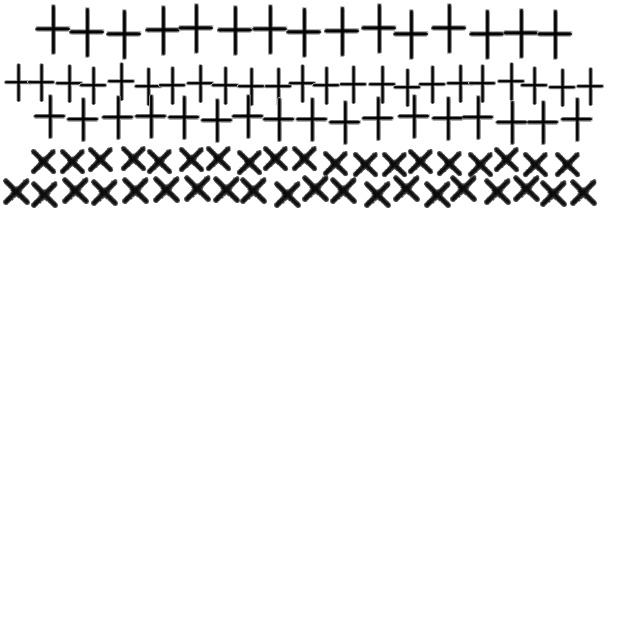double: (32, 4, 72, 56), (66, 7, 106, 59), (103, 9, 143, 61), (142, 5, 182, 57), (175, 3, 215, 55), (214, 5, 254, 57), (249, 4, 289, 56), (283, 7, 323, 59), (321, 6, 361, 58), (358, 3, 398, 55), (390, 9, 430, 61), (428, 3, 468, 55), (466, 9, 506, 61), (500, 8, 540, 60), (534, 9, 574, 61), (31, 94, 67, 140), (64, 97, 100, 143), (99, 95, 135, 141), (132, 94, 168, 140), (165, 95, 201, 141), (198, 98, 234, 144), (229, 94, 265, 140), (260, 97, 296, 143), (293, 97, 329, 143), (326, 100, 362, 146), (359, 96, 395, 142), (395, 94, 431, 140), (429, 96, 465, 142), (459, 95, 495, 141), (493, 100, 529, 146), (524, 100, 560, 146), (558, 97, 594, 143), (2, 63, 34, 103), (132, 67, 164, 107), (156, 66, 188, 106), (184, 64, 216, 104), (262, 67, 294, 107), (286, 64, 318, 104), (310, 66, 342, 106), (366, 65, 398, 105), (416, 65, 448, 105), (444, 64, 476, 104), (466, 64, 498, 104), (518, 66, 550, 106), (546, 68, 578, 108), (574, 67, 606, 107), (28, 176, 62, 212), (88, 174, 122, 210), (390, 170, 424, 206), (510, 170, 544, 206), (26, 63, 56, 103), (54, 64, 84, 104), (78, 66, 108, 106), (106, 62, 136, 102), (210, 66, 240, 106), (236, 67, 266, 107), (338, 65, 368, 105), (392, 68, 422, 108), (496, 62, 526, 102), (0, 174, 34, 208), (150, 172, 184, 206), (210, 172, 244, 206), (60, 172, 92, 208), (120, 172, 152, 208), (182, 170, 214, 206), (238, 172, 270, 208), (272, 176, 304, 212), (300, 170, 332, 206), (328, 172, 360, 208), (362, 176, 394, 212), (422, 176, 454, 212), (448, 170, 480, 206), (568, 174, 600, 210), (28, 144, 60, 178), (144, 144, 176, 178), (176, 142, 208, 176), (320, 146, 352, 180), (434, 146, 466, 180), (482, 174, 514, 208), (538, 176, 570, 210), (118, 142, 150, 174), (234, 146, 266, 178), (260, 142, 292, 174), (350, 148, 382, 180), (520, 148, 552, 180), (552, 148, 584, 180), (58, 144, 88, 178), (86, 142, 116, 176), (406, 144, 436, 178), (492, 142, 522, 176), (204, 142, 234, 174), (290, 142, 320, 174), (380, 148, 410, 180), (466, 148, 496, 180)
